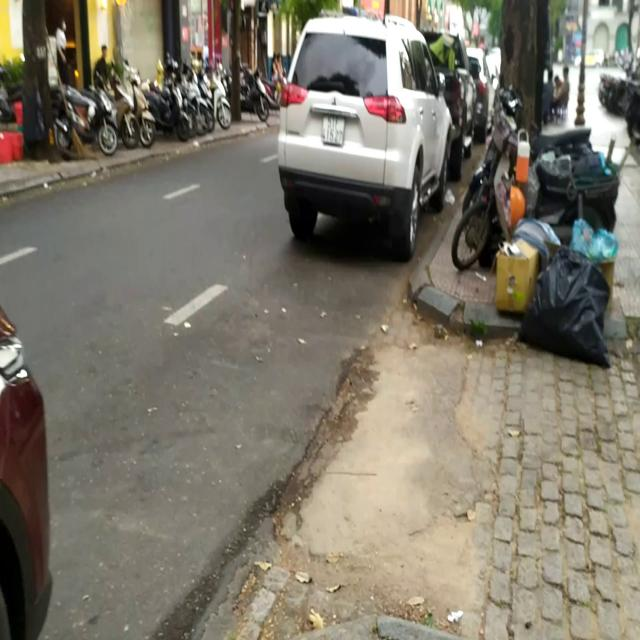bien_trang: (320, 113, 347, 156)
